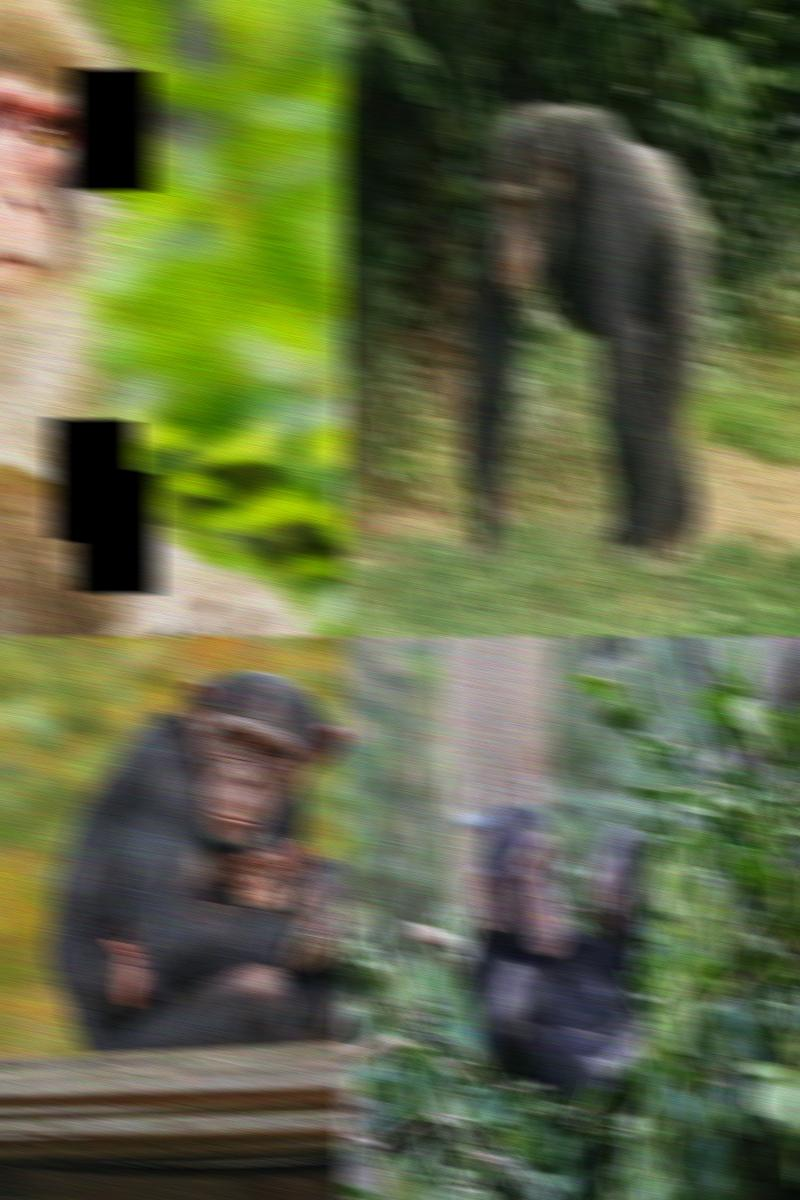Macaca fuscata: (0, 0, 308, 636)
chimpanzee: (457, 102, 709, 563), (44, 666, 348, 1040), (466, 801, 668, 1109), (218, 837, 348, 994)
